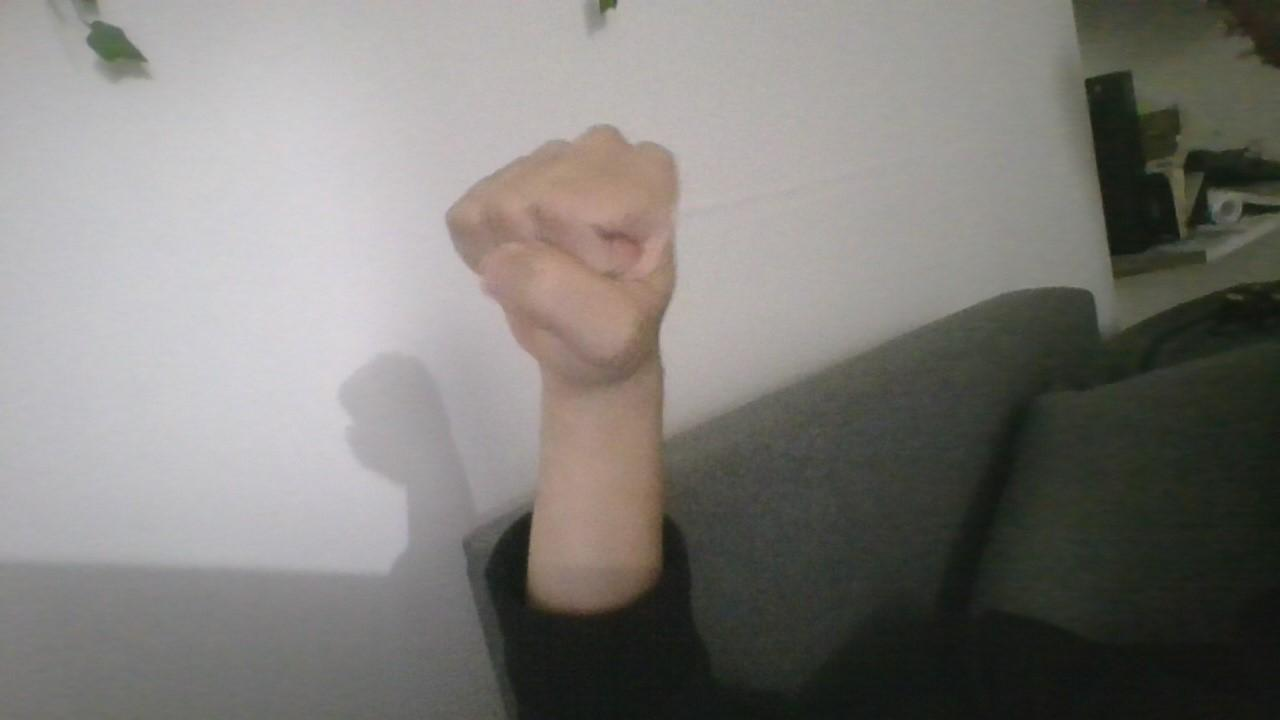stop: (437, 86, 722, 409)
